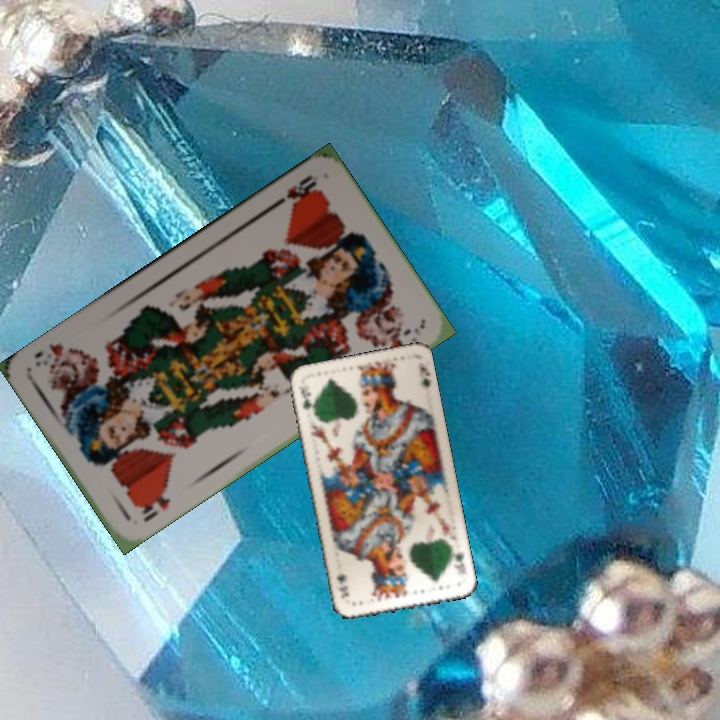GK: (295, 382, 316, 419), (446, 543, 467, 577)
HO: (269, 171, 319, 210), (135, 482, 174, 525)
